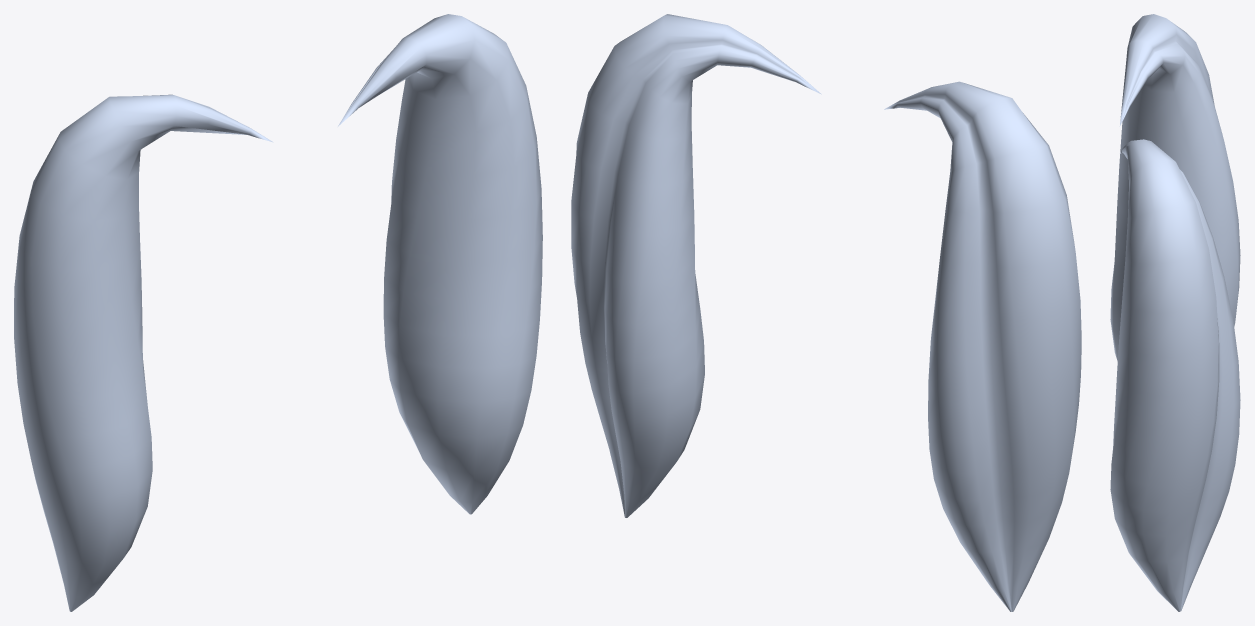
The model's file is 12_back_twintale_low.fbx.
3 views of the same model, side by side, from view 1: azimuth 30°, elevation 25°; view 2: azimuth 150°, elevation 25°; view 3: azimuth 270°, elevation 25° (orthographic). The views are drawn at different scales.
Visible parts, largest first — view 1: 12_back_twintale_low; view 2: 12_back_twintale_low; view 3: 12_back_twintale_low.
Part boxes in pixels (box(x1,y1,x2,y2)): 12_back_twintale_low: box(14, 14, 542, 611); 12_back_twintale_low: box(571, 14, 1081, 611); 12_back_twintale_low: box(1110, 14, 1240, 611).
Bounding box in the file's own units: 131 × 125 × 33.53.
